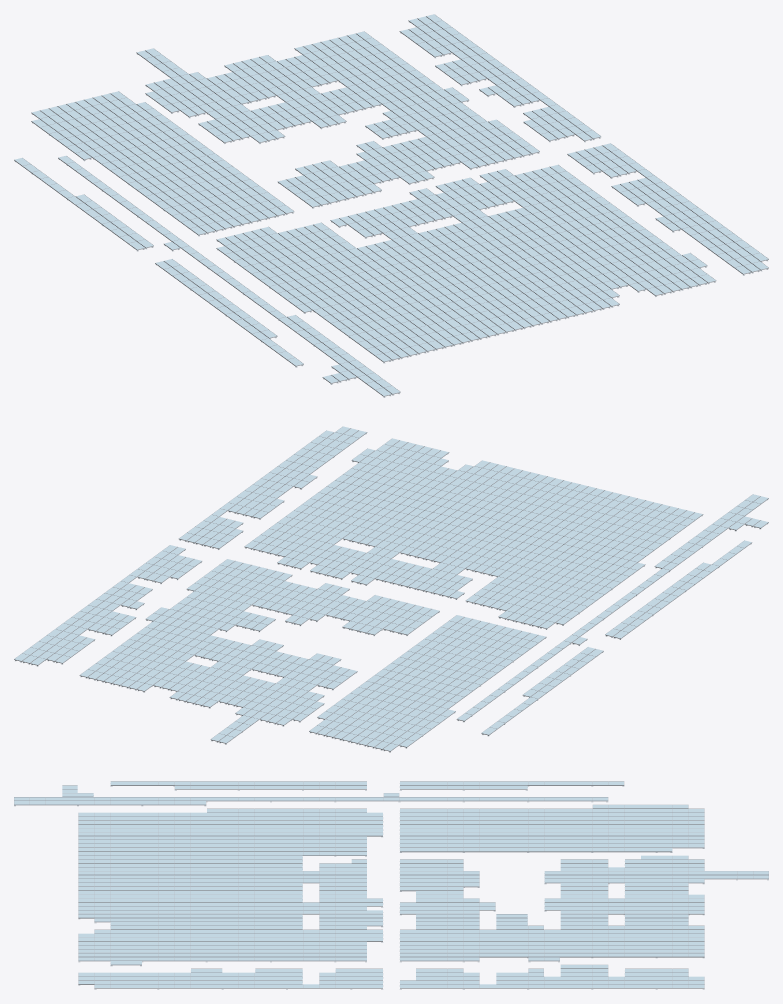
The model's file is SM_MPR3_SolarBank_01_0.fbx.
3 views of the same model, one above another, from view 1: azimuth 30°, elevation 25°; view 2: azimuth 150°, elevation 25°; view 3: azimuth 270°, elevation 25° (orthographic). The views are drawn at different scales.
Visible parts, largest first — view 1: SM_MPR3_SolarBank_01_0; view 2: SM_MPR3_SolarBank_01_0; view 3: SM_MPR3_SolarBank_01_0.
Boxes of the visible parts, left/top/right/bottom form: SM_MPR3_SolarBank_01_0: left=14, top=14, right=768, bottom=397; SM_MPR3_SolarBank_01_0: left=14, top=426, right=768, bottom=752; SM_MPR3_SolarBank_01_0: left=14, top=781, right=768, bottom=989.
Bounding box in the file's own units: 5929 × 9159 × 24.
